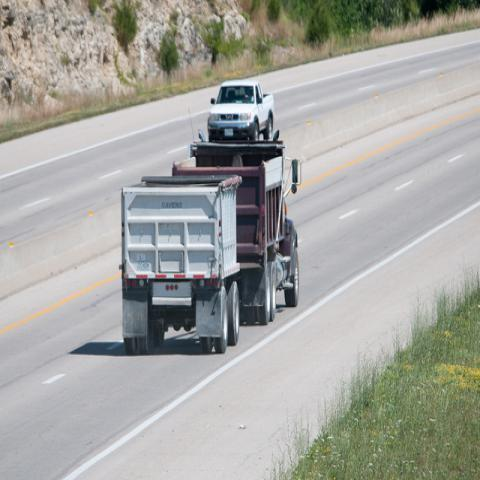truck: (121, 137, 302, 358), (207, 80, 275, 140)
